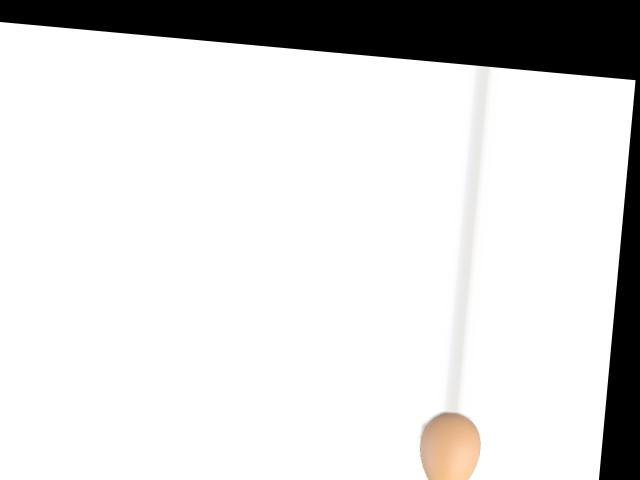egg: (415, 410, 483, 480)
